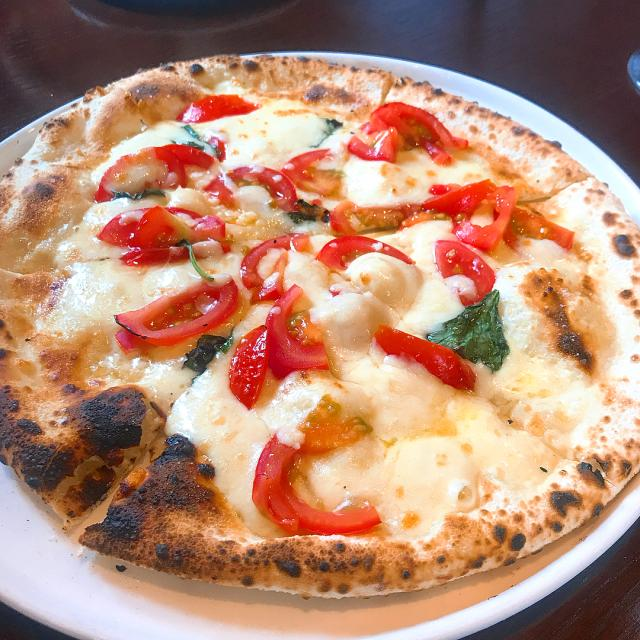basil: (428, 290, 510, 371), (176, 239, 214, 281), (312, 118, 342, 148)
pizza: (0, 55, 640, 598)
tomatoes: (420, 172, 581, 306), (261, 408, 397, 533), (230, 293, 340, 410), (342, 80, 477, 165), (318, 186, 433, 280), (85, 202, 234, 265), (102, 282, 238, 350), (224, 148, 344, 220), (364, 320, 497, 384), (96, 133, 223, 199), (238, 232, 313, 296), (172, 86, 267, 120)
